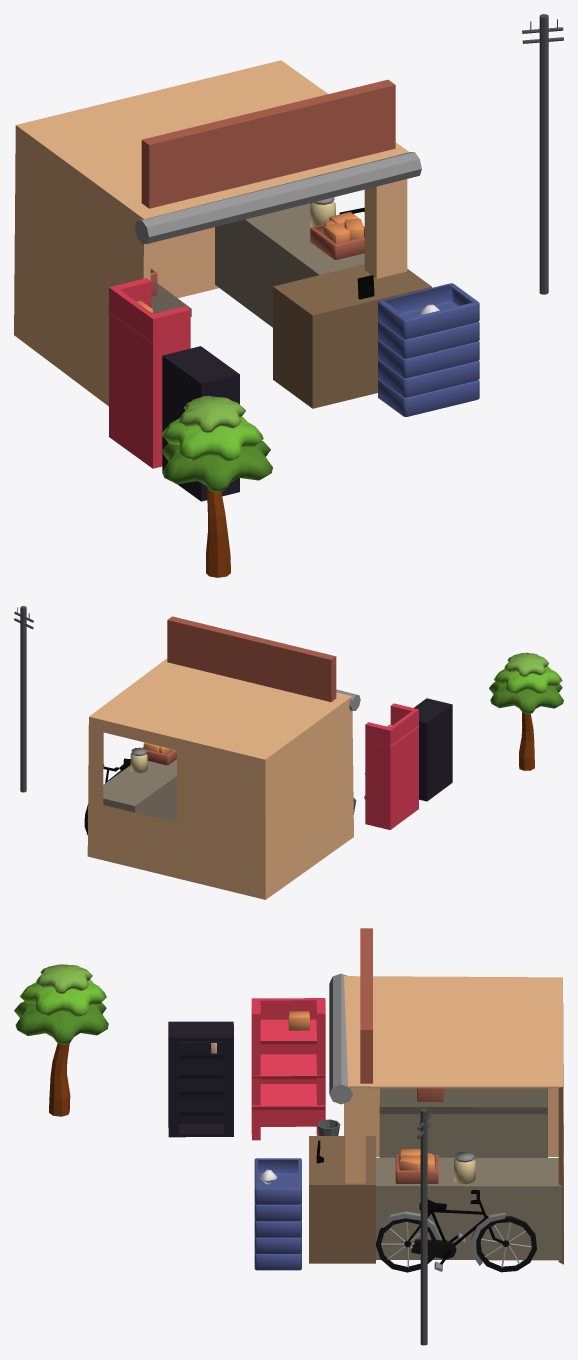
Rendered from Commercial.fbx.
3 views of the same model, one above another, from view 1: azimuth 30°, elevation 25°; view 2: azimuth 150°, elevation 25°; view 3: azimuth 270°, elevation 25° (orthographic). The views are drawn at different scales.
Parts seen in each view (by area): view 1: Mainshop, Crate, Rack, Tree1.005, Refrigerator, pole.001, Basket 2; view 2: Mainshop, Rack, Tree1.005, Refrigerator, pole.001, Basket 2, Glass jar; view 3: Mainshop, Inside rack, Rack, Refrigerator, Tree1.005, Crate, Cycle, pole.001, Basket 2, Glass jar.
Boxes of the visible parts, x1=… form: Mainshop: x1=14, y1=60, x2=431, y2=408; Crate: x1=378, y1=283, x2=479, y2=416; Rack: x1=108, y1=278, x2=190, y2=468; Tree1.005: x1=161, y1=396, x2=272, y2=577; Refrigerator: x1=162, y1=346, x2=239, y2=501; pole.001: x1=522, y1=14, x2=563, y2=294; Basket 2: x1=310, y1=212, x2=364, y2=259; Mainshop: x1=87, y1=616, x2=360, y2=899; Rack: x1=364, y1=703, x2=418, y2=829; Tree1.005: x1=489, y1=652, x2=563, y2=770; Refrigerator: x1=414, y1=698, x2=452, y2=801; pole.001: x1=14, y1=606, x2=33, y2=792; Basket 2: x1=142, y1=742, x2=176, y2=765; Glass jar: x1=130, y1=747, x2=147, y2=773; Mainshop: x1=309, y1=928, x2=563, y2=1264; Inside rack: x1=379, y1=1088, x2=547, y2=1157; Rack: x1=251, y1=998, x2=325, y2=1140; Refrigerator: x1=168, y1=1021, x2=233, y2=1137; Tree1.005: x1=14, y1=964, x2=108, y2=1116; Crate: x1=254, y1=1158, x2=301, y2=1270; Cycle: x1=376, y1=1190, x2=536, y2=1272; pole.001: x1=417, y1=1108, x2=431, y2=1345; Basket 2: x1=395, y1=1149, x2=438, y2=1183; Glass jar: x1=454, y1=1151, x2=475, y2=1184.
Size of the model in its own units: 118 by 51.71 by 109.
